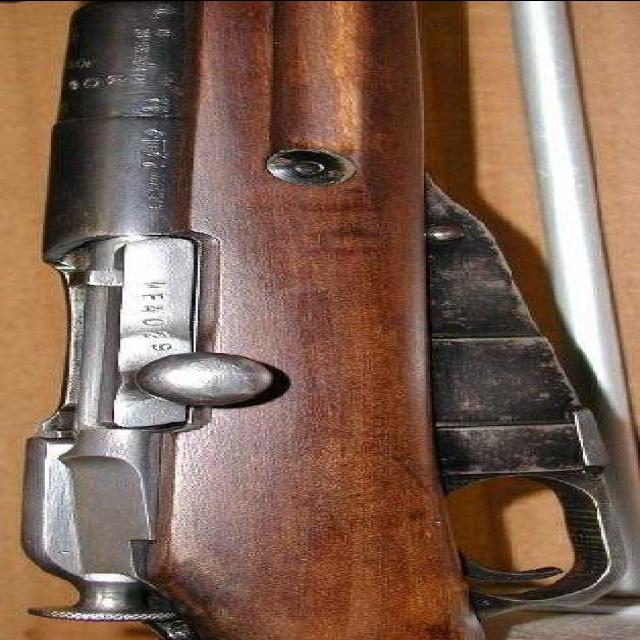heavyweapon: (56, 1, 640, 640)
